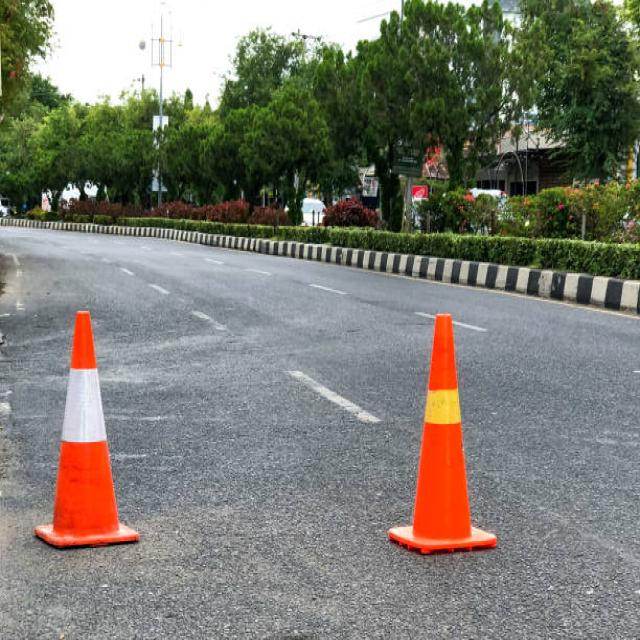Traffic Cone: (376, 282, 514, 579), (16, 286, 158, 568)
